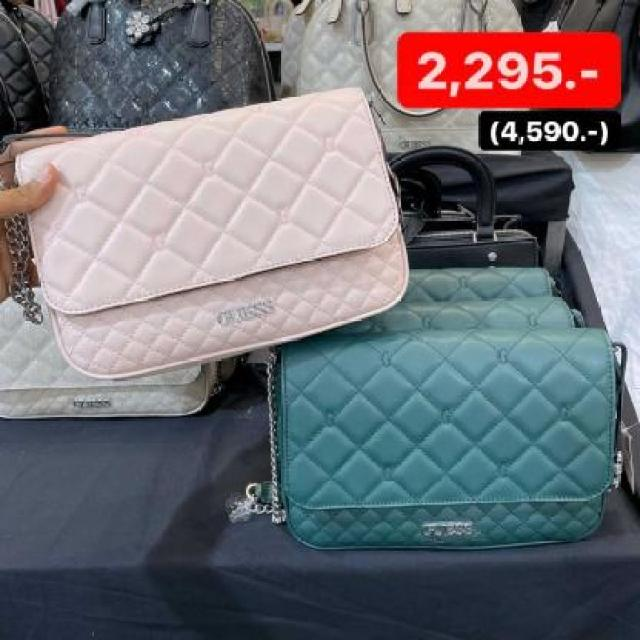Bag: (0, 86, 411, 408), (248, 328, 640, 572)
